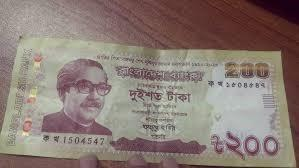200 tk: (18, 36, 298, 167)
